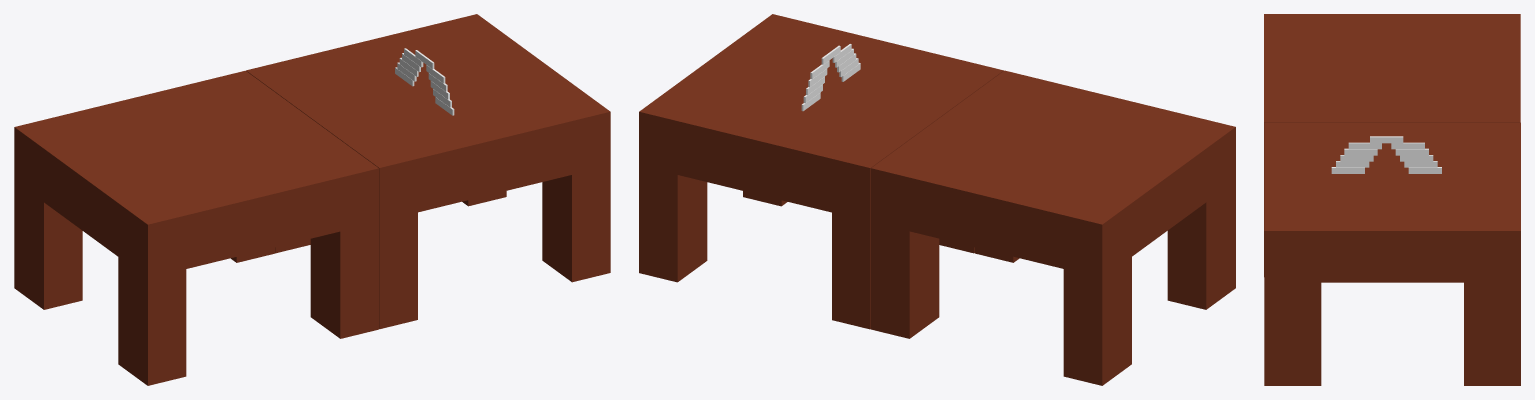
The model's file is keva_bridge_11.dae.
3 renders of one model, left to right at view 1: azimuth 30°, elevation 25°; view 2: azimuth 150°, elevation 25°; view 3: azimuth 270°, elevation 25°, orthographic. The views are drawn at different scales.
Parts seen in each view (by area): view 1: base (×7); view 2: base (×7); view 3: base (×4), SketchUp (×11).
Part boxes in pixels (x1,y1,x2,y2): base (×7): (14, 14, 610, 385); base (×7): (639, 14, 1235, 385); base (×4): (1264, 14, 1520, 385); SketchUp (×11): (1331, 136, 1441, 173).
Size of the model in its own units: 1.8 by 0.9009 by 0.7427.
